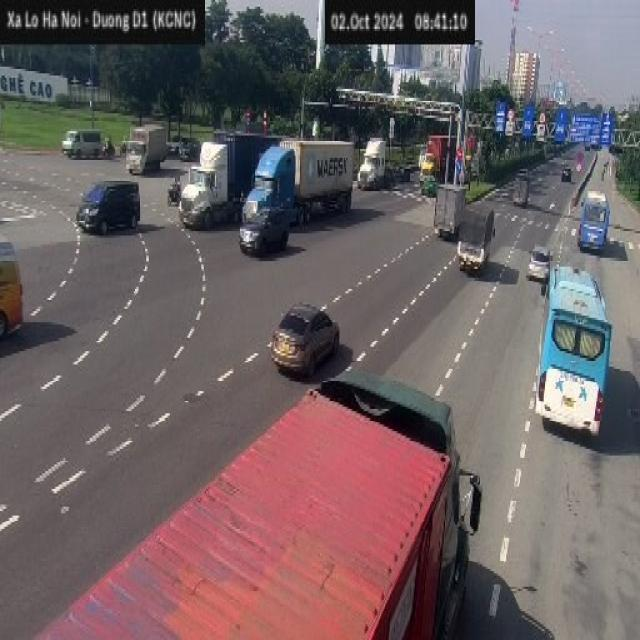bus: (536, 263, 614, 441), (582, 188, 608, 260)
car: (270, 300, 339, 376), (75, 178, 140, 233), (1, 230, 31, 349), (237, 206, 291, 261), (60, 124, 106, 164), (526, 244, 552, 280), (561, 163, 574, 188)
container-truck: (20, 364, 479, 640), (245, 139, 356, 226), (174, 126, 259, 229), (356, 131, 409, 192), (421, 134, 455, 162)
truck: (455, 196, 500, 270), (126, 121, 168, 174), (436, 182, 464, 243), (512, 170, 532, 207)
